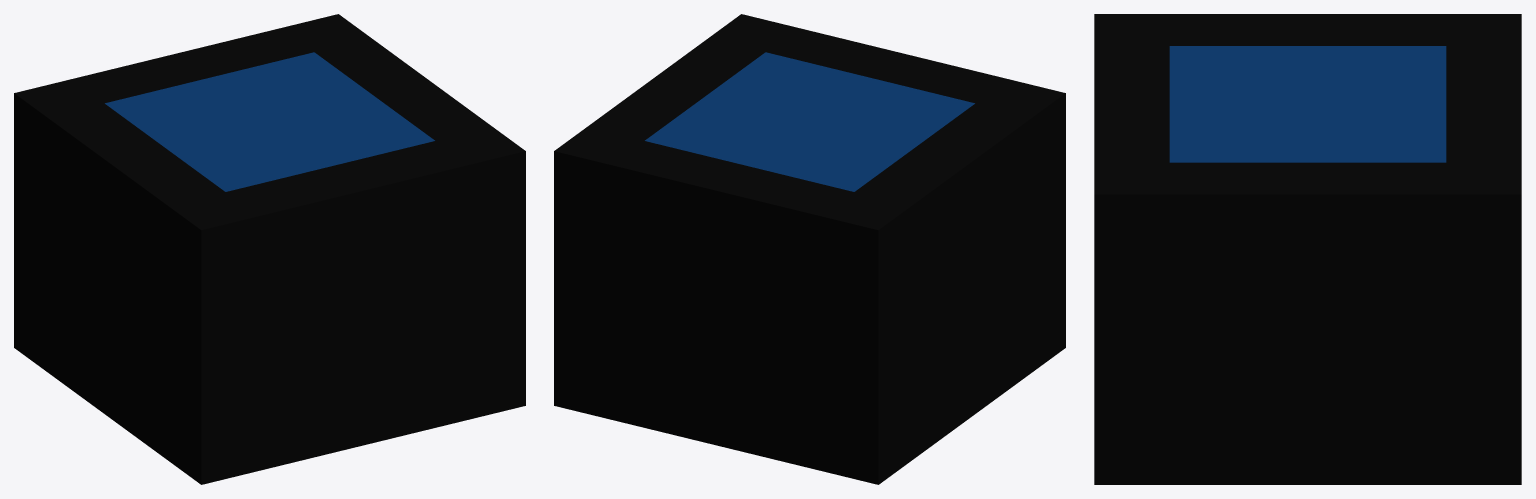
Rendered from azurite_ore.dae.
The picture shows the model from 3 angles, left to right: view 1: azimuth 30°, elevation 25°; view 2: azimuth 150°, elevation 25°; view 3: azimuth 270°, elevation 25°; orthographic projection. The views are drawn at different scales.
Visible parts, largest first — view 1: Cube.002; view 2: Cube.002; view 3: Cube.002.
Boxes of the visible parts, <box> form: Cube.002: <box>14,14,525,484</box>; Cube.002: <box>554,14,1065,484</box>; Cube.002: <box>1094,14,1521,484</box>.
Bounding box in the file's own units: 0.1016 × 0.1016 × 0.0762.
